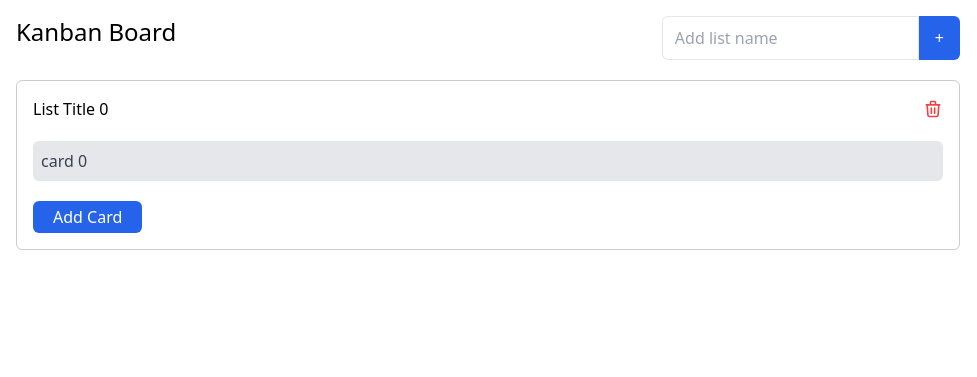
Test: input list name › should display inputed list
Type "List Title 1" into the field with placeholder "Add list name" at (791, 38), box [662,16,919,60]
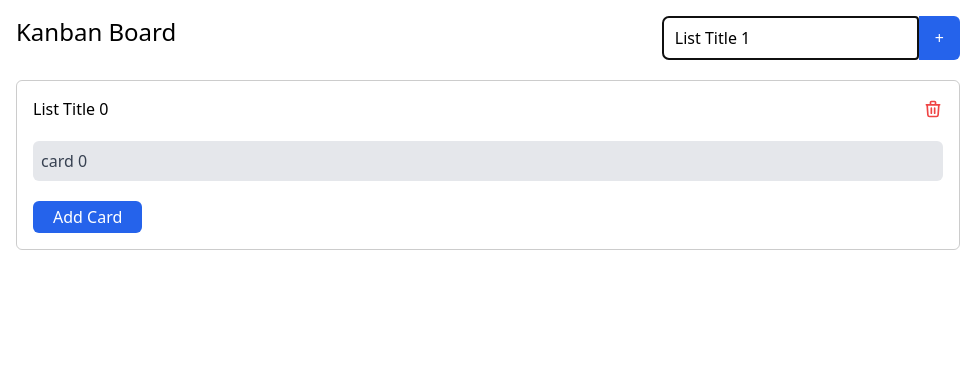
Click the button "+" at (940, 38), box [919,16,960,60]
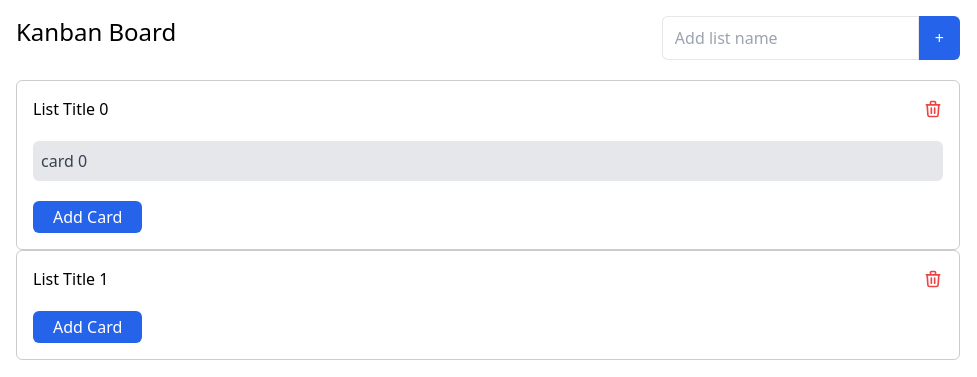
expect the heading "List Title 1" is shown: met, box [33,267,108,291]
